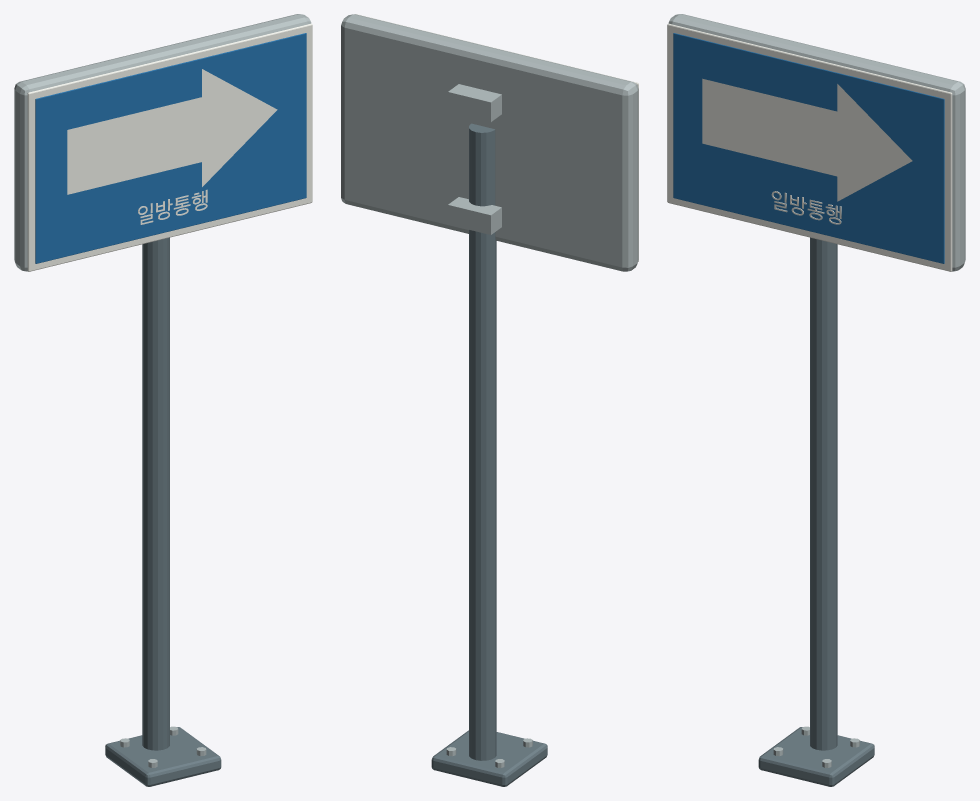
Rendered from SIMUS_Sign_OneWay.glb.
3 renders of one model, left to right at view 1: azimuth 30°, elevation 25°; view 2: azimuth 150°, elevation 25°; view 3: azimuth 330°, elevation 25°, orthographic.
Visible parts, largest first — view 1: Blue face, Post.003, Forward arrow, White border, Board back, Foot plate.003, Legend 일방통행; view 2: Board back, Post.003, Foot plate.003, Rear clamp.007, Rear clamp.006; view 3: Blue face, Post.003, Forward arrow, White border, Board back, Foot plate.003, Legend 일방통행.
Part boxes in pixels (<box>): Blue face: <box>35,33,306,263</box>; Post.003: <box>142,237,169,750</box>; Forward arrow: <box>67,69,277,194</box>; White border: <box>27,23,312,271</box>; Board back: <box>14,14,311,271</box>; Foot plate.003: <box>105,727,221,786</box>; Legend 일방통행: <box>138,189,207,224</box>; Board back: <box>341,14,638,271</box>; Post.003: <box>469,123,496,760</box>; Foot plate.003: <box>431,730,547,786</box>; Rear clamp.007: <box>448,84,501,121</box>; Rear clamp.006: <box>448,197,501,234</box>; Blue face: <box>673,33,944,263</box>; Post.003: <box>810,237,837,750</box>; Forward arrow: <box>702,78,912,201</box>; White border: <box>667,23,952,271</box>; Board back: <box>668,14,965,271</box>; Foot plate.003: <box>758,727,874,786</box>; Legend 일방통행: <box>771,191,841,224</box>.
Bounding box in the file's own units: 1.08 × 2.53 × 0.28.
